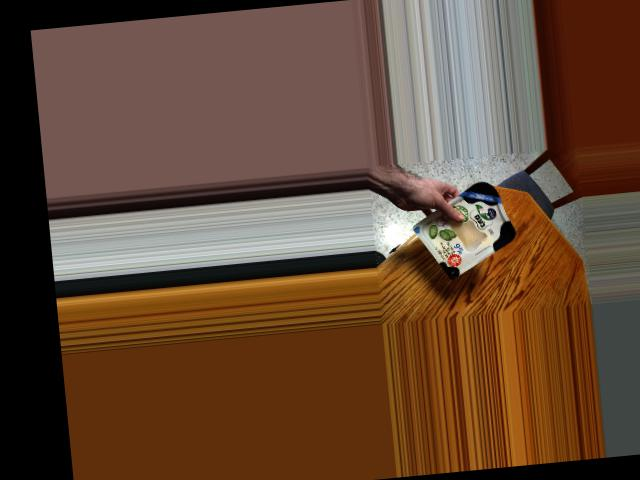cheese: (421, 181, 516, 275)
